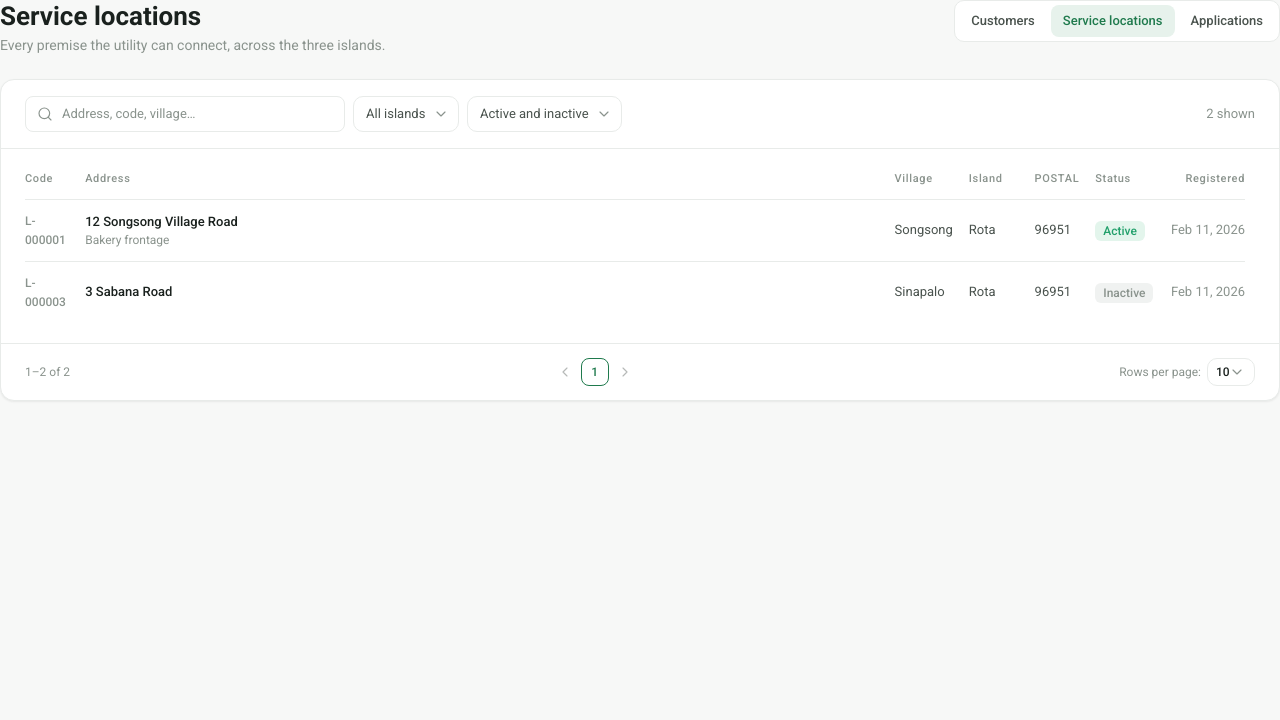
Test: ServiceLocationsPage › opens a drawer showing the premise and the accounts held there
Expected: the text "12 Songsong Village Road" is shown, [85,214,238,229]
Click the button "12 Songsong Village Road Bakery frontage".
click(161, 222)  # box [85,213,879,248]
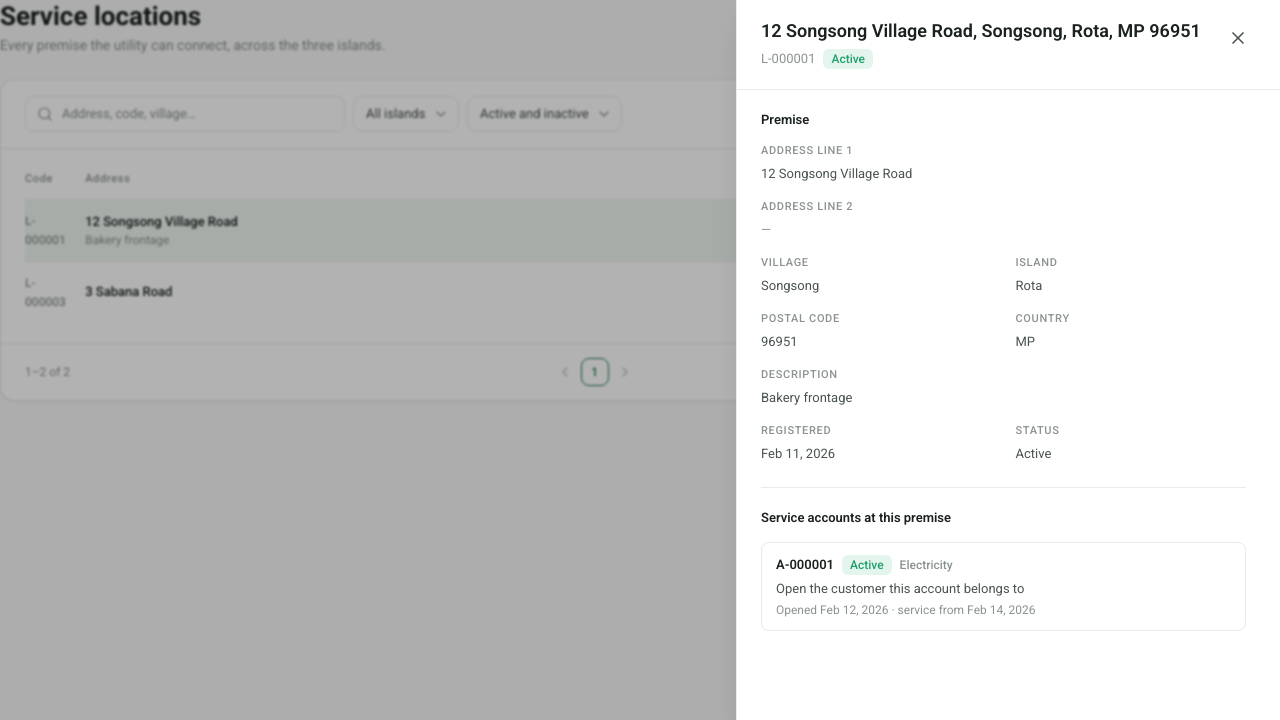
Expected: the text "Songsong" is shown, [761,278,819,292]
Expected: the text "96951" is shown, [761,334,798,348]
Expected: the text "A-000001" is shown, [776,555,834,574]
